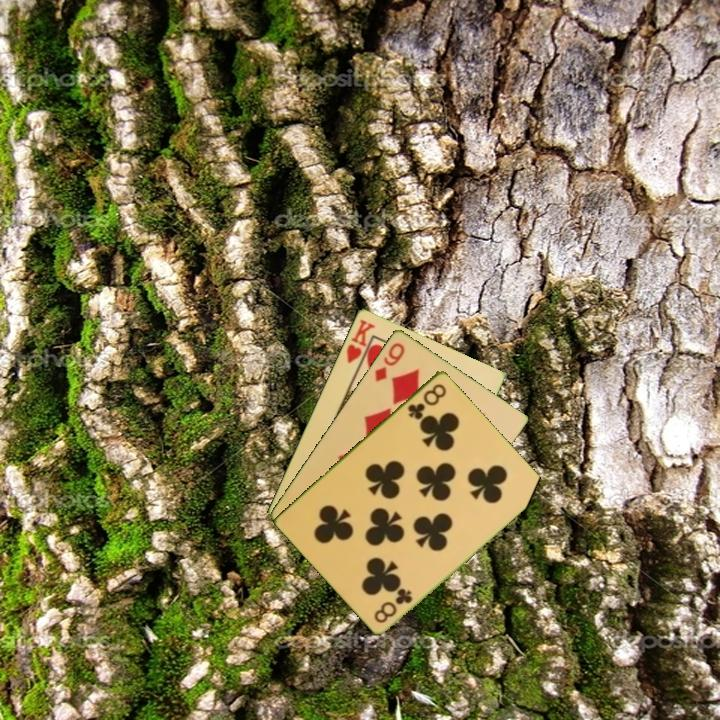8c: (404, 380, 449, 422), (370, 585, 416, 626)
9d: (371, 338, 408, 384)
Kh: (343, 315, 378, 372)
